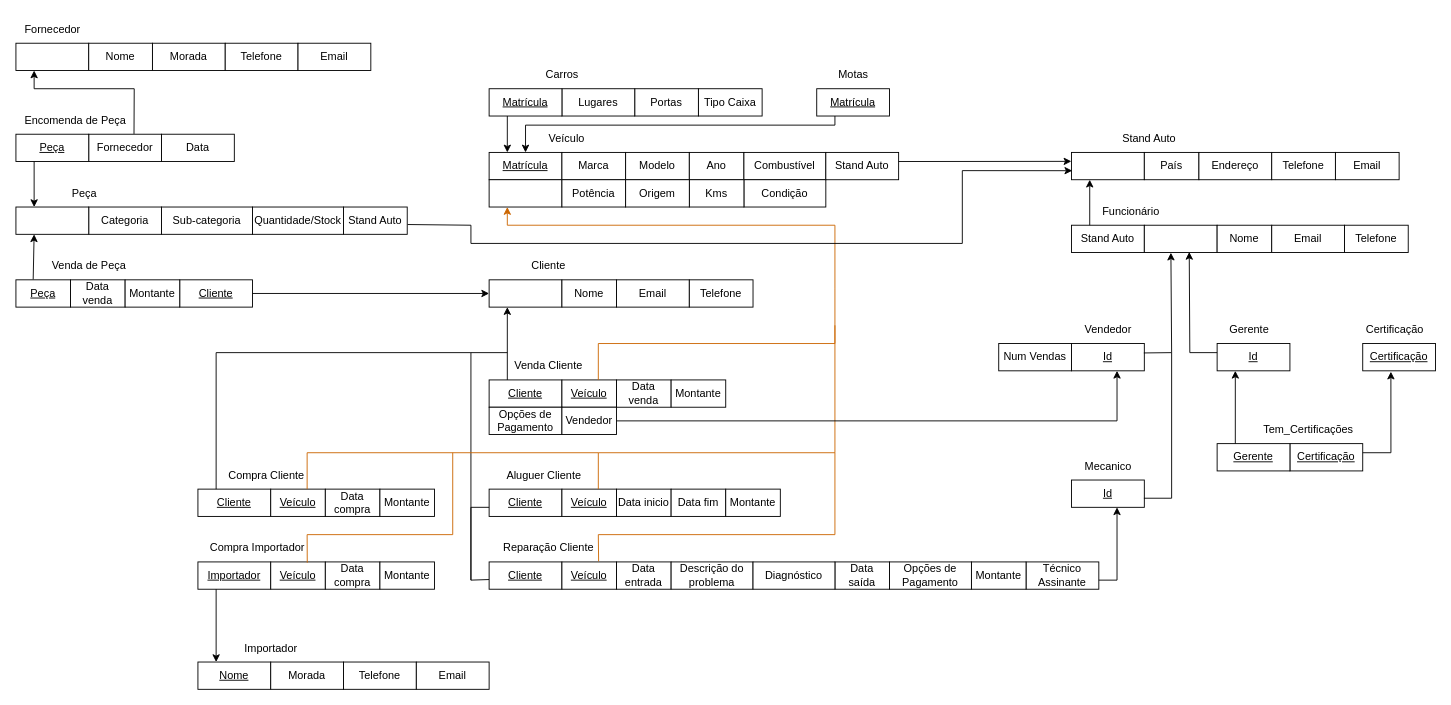
Some shapes in this 1451 by 705 pixel diagram are drawn without their labels. The centre of each missing label's shape, as x and y in pixels:
Cilindrada: (x=525, y=193)
Designaçao: (x=52, y=220)
ID Cliente: (x=525, y=293)
ID Funcionario: (x=1180, y=238)
ID Stand: (x=1107, y=166)
NIF: (x=52, y=56)
